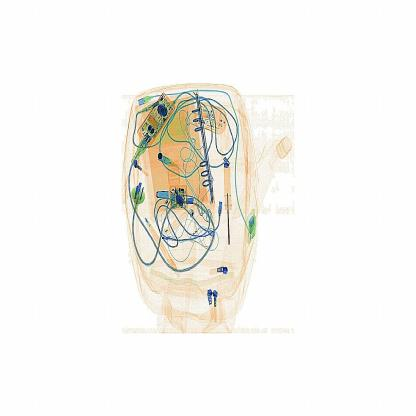wrench: (222, 160, 235, 249)
